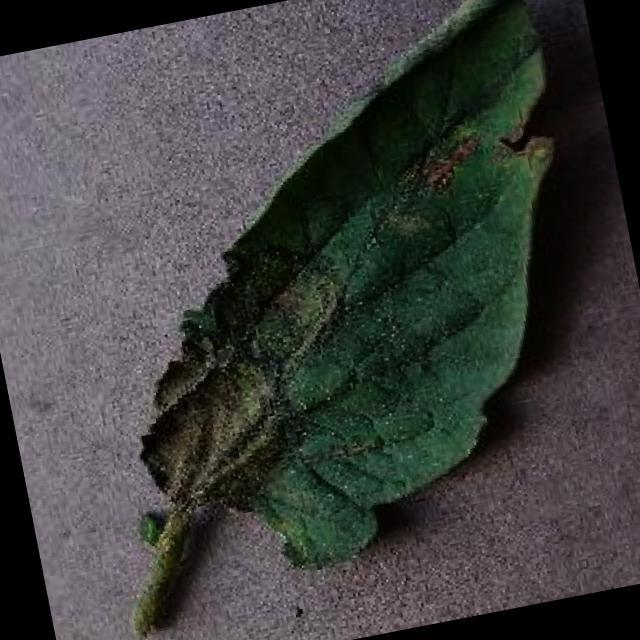Tomato late blight leaf: (68, 0, 638, 598)
